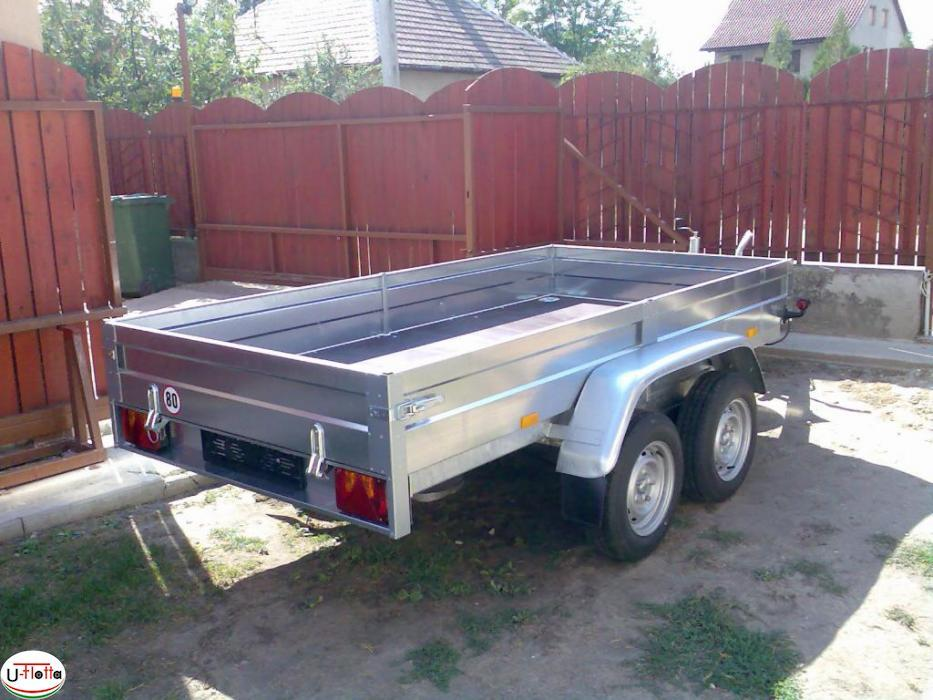trailer: (103, 243, 793, 538)
